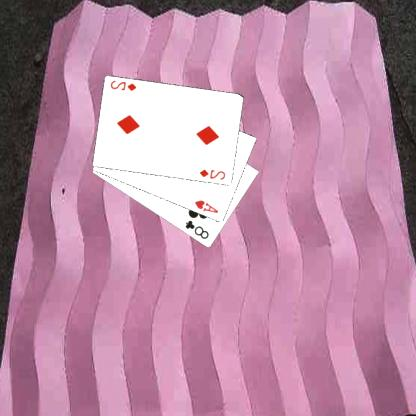2D: (198, 166, 228, 182), (109, 78, 140, 92)
8C: (184, 218, 212, 240)
AH: (194, 197, 222, 215)
